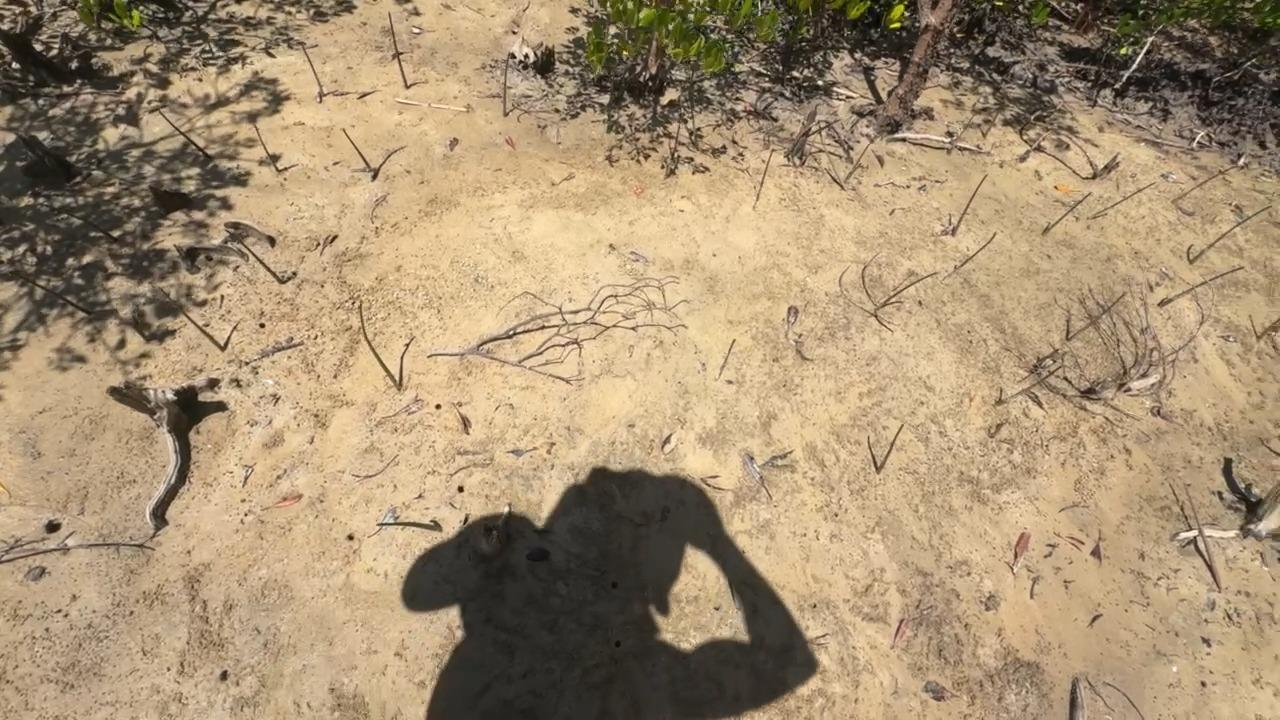Tree: (1168, 478, 1226, 591), (1187, 205, 1274, 265), (157, 283, 225, 350), (10, 268, 94, 318), (1158, 265, 1245, 308), (360, 300, 399, 391), (225, 229, 285, 285), (1066, 290, 1126, 341), (39, 204, 120, 241), (995, 363, 1063, 407), (1086, 182, 1157, 219), (875, 271, 940, 311), (159, 109, 211, 158), (1170, 165, 1238, 202), (951, 173, 988, 236), (1041, 191, 1093, 234), (954, 230, 999, 270), (388, 11, 408, 89), (844, 136, 876, 184), (752, 147, 776, 210), (341, 128, 375, 170), (876, 423, 904, 473), (254, 123, 280, 173), (301, 44, 324, 97), (716, 338, 737, 380), (503, 52, 511, 116), (956, 113, 974, 141), (983, 111, 999, 137)
